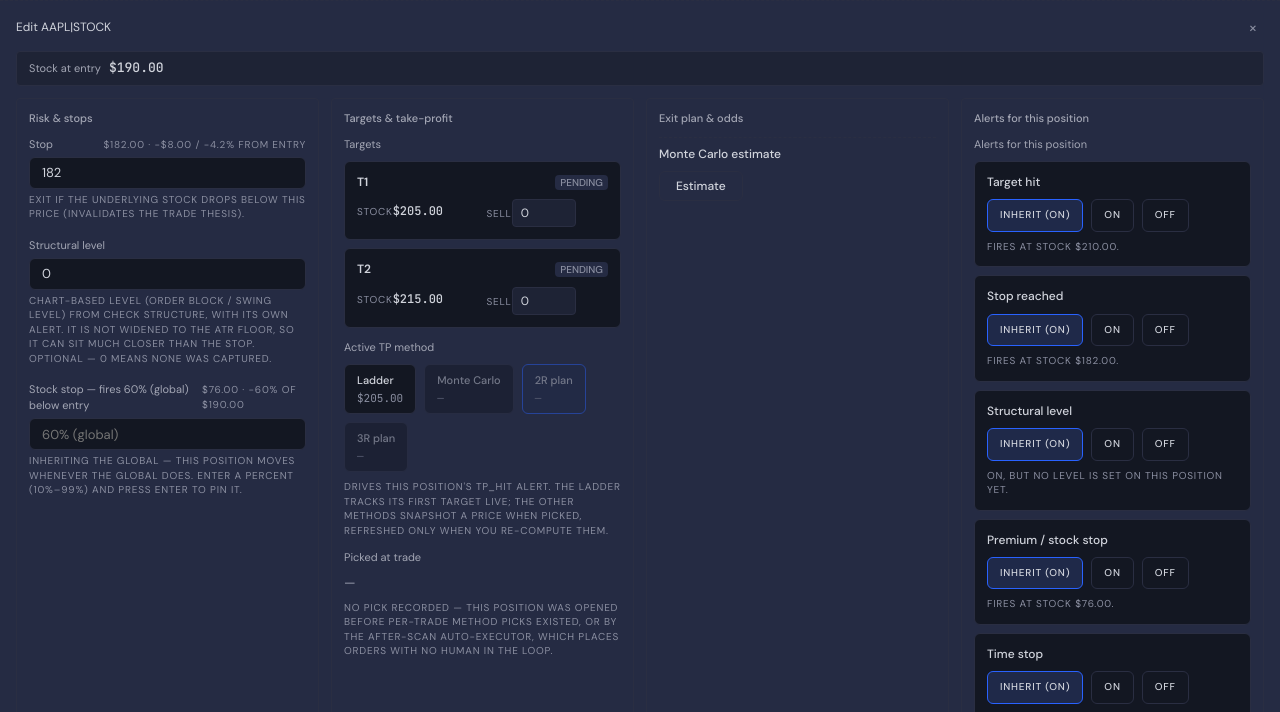
Test: P2-12 -- a Monte Carlo re-run keeps the rung the user picked › with 2R active, the Monte Carlo option still offers T1 and nothing is stamped
Click the button "Estimate". click: (701, 186)
box: [659,171,743,201]
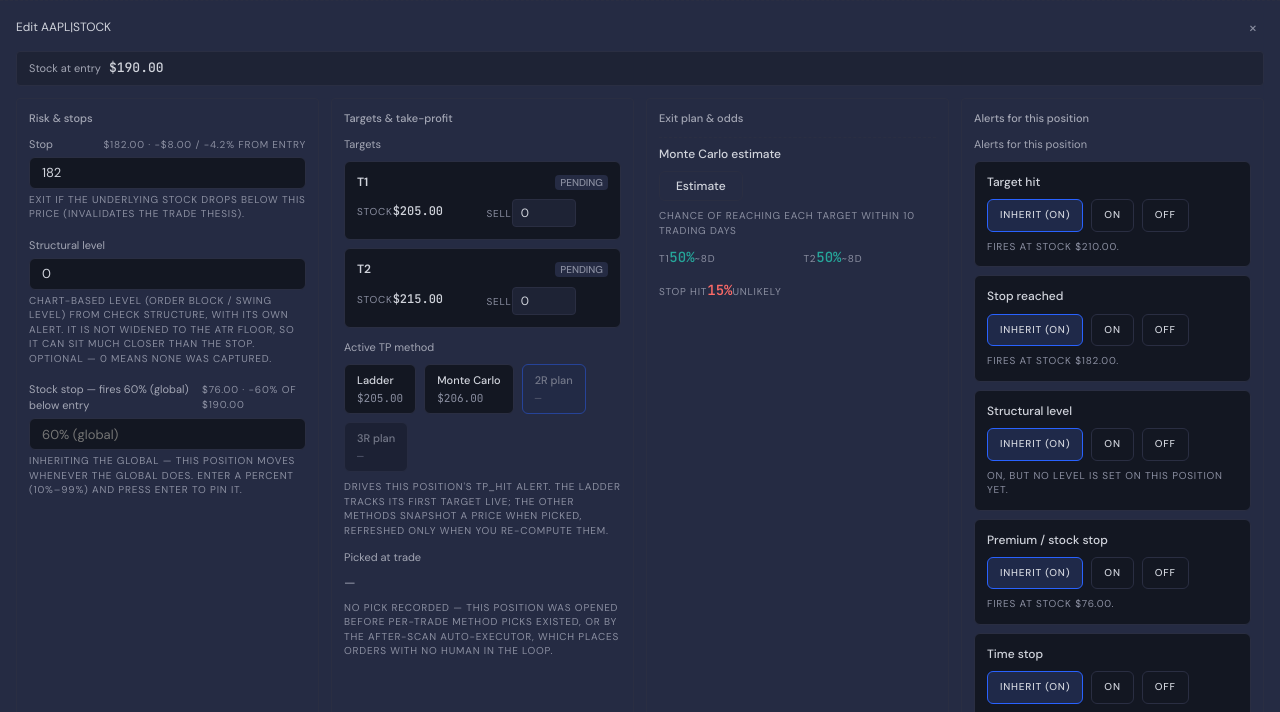
Check: the radio button labelled "Monte Carlo" shows "$206.00", box [424,364,514,414]
